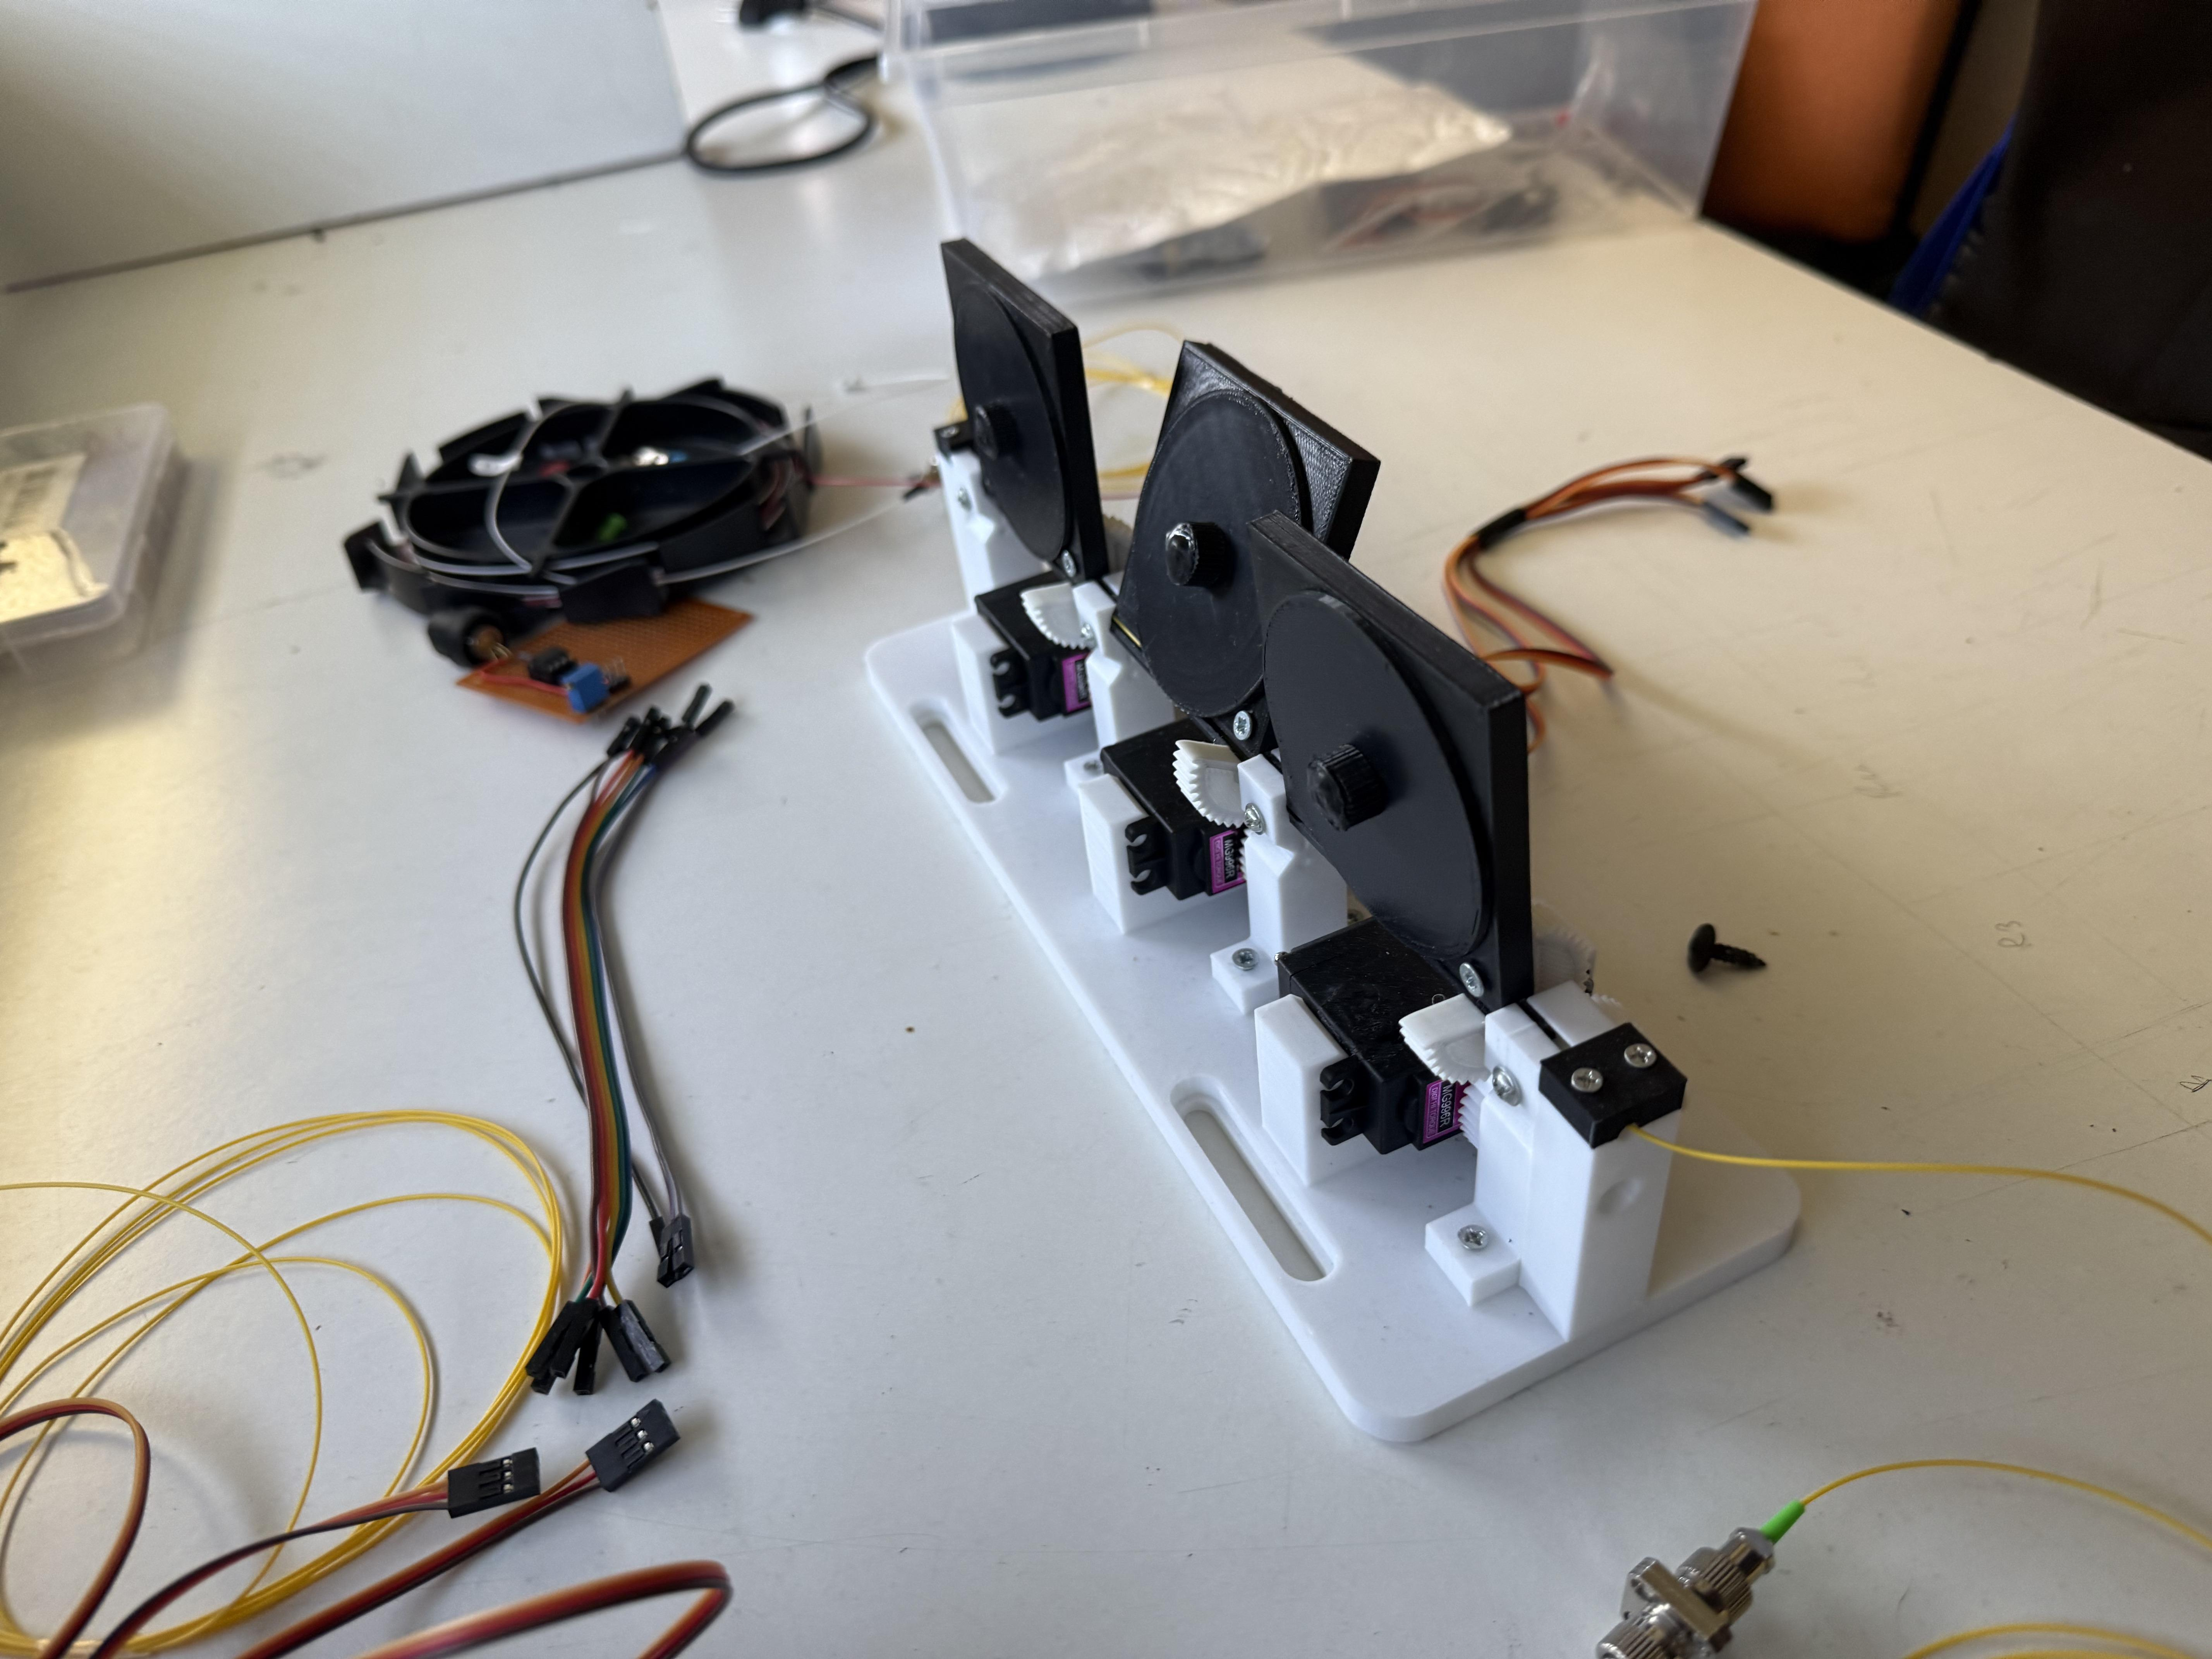paddle_polarization_controller: (842, 227, 1878, 1524)
